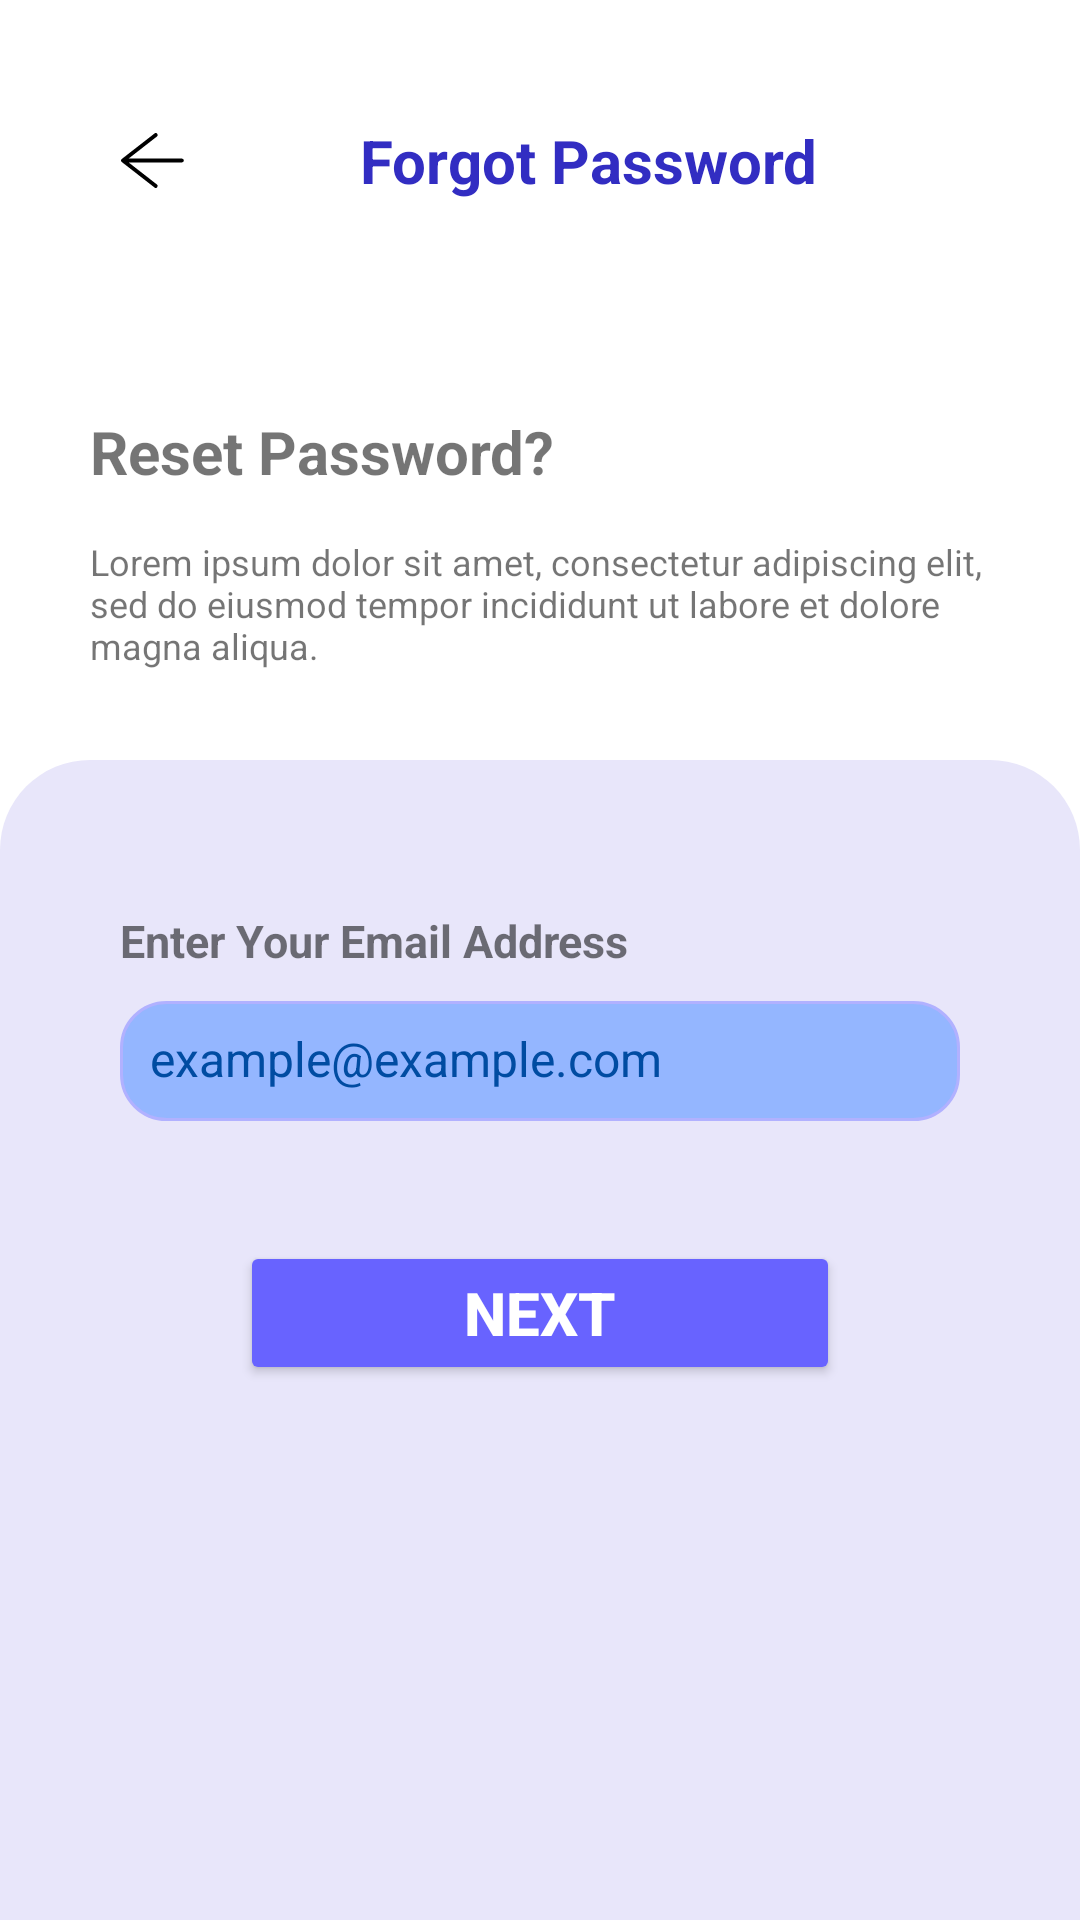

Where icons sit on this 1080px×1920px app screen, as (x1, y1, x2, y2):
arrow: (121, 133, 184, 188)
